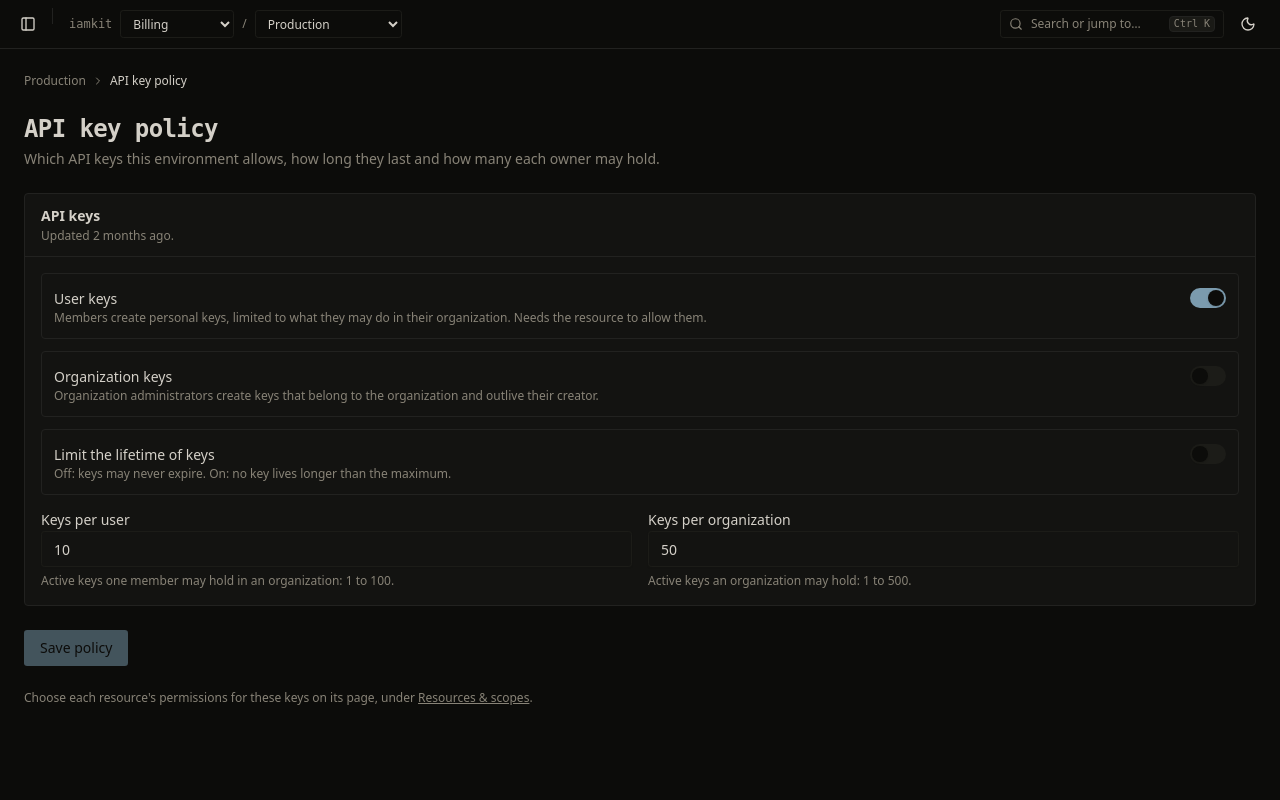
Test case: edits the API key policy: toggles, a lifetime cap and limits
The width and height of the screenshot is (1280, 800).
Expected: the switch labelled "User keys" is checked, [54, 289, 117, 308]
Expected: the button "Save policy" is disabled, [24, 630, 128, 666]
Click the switch labelled "Organization keys" at (113,376), box [54, 367, 172, 386]
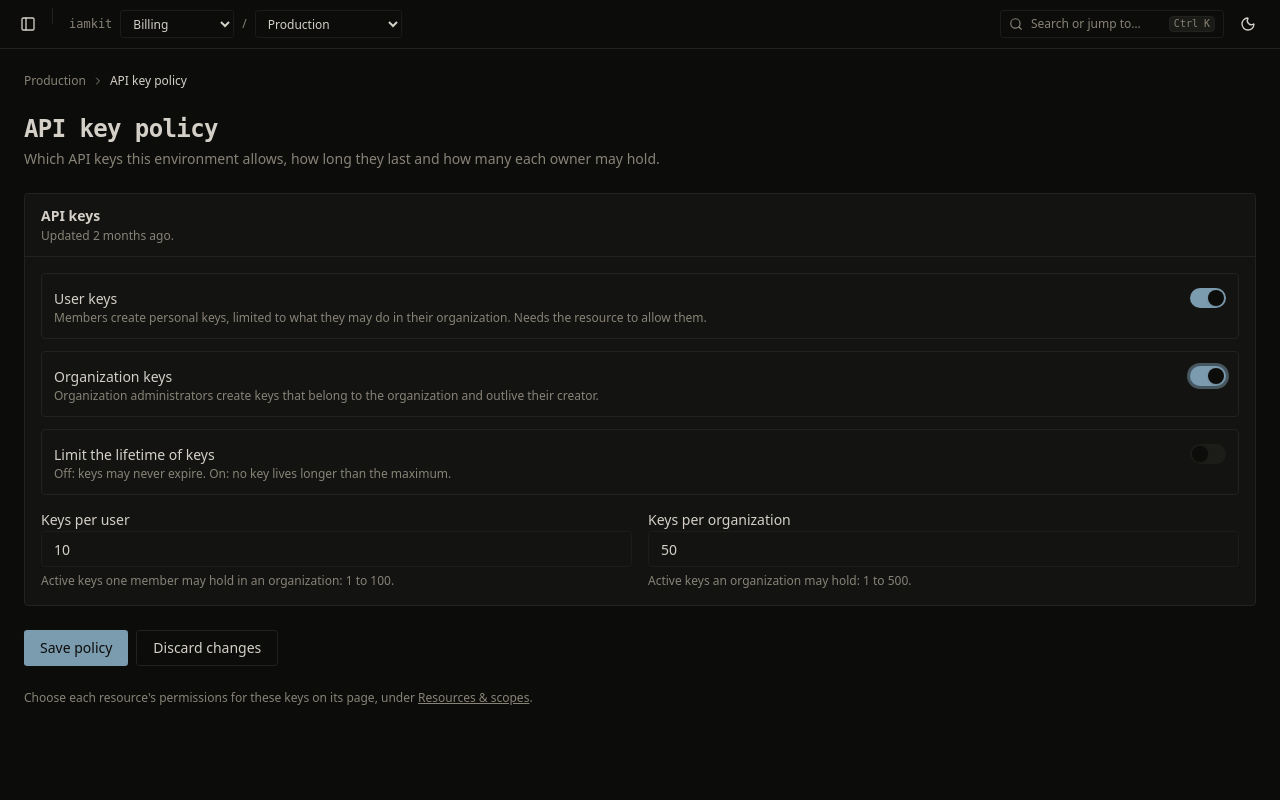
Click the switch labelled "Limit the lifetime of keys" at (134,454), box [54, 445, 215, 464]
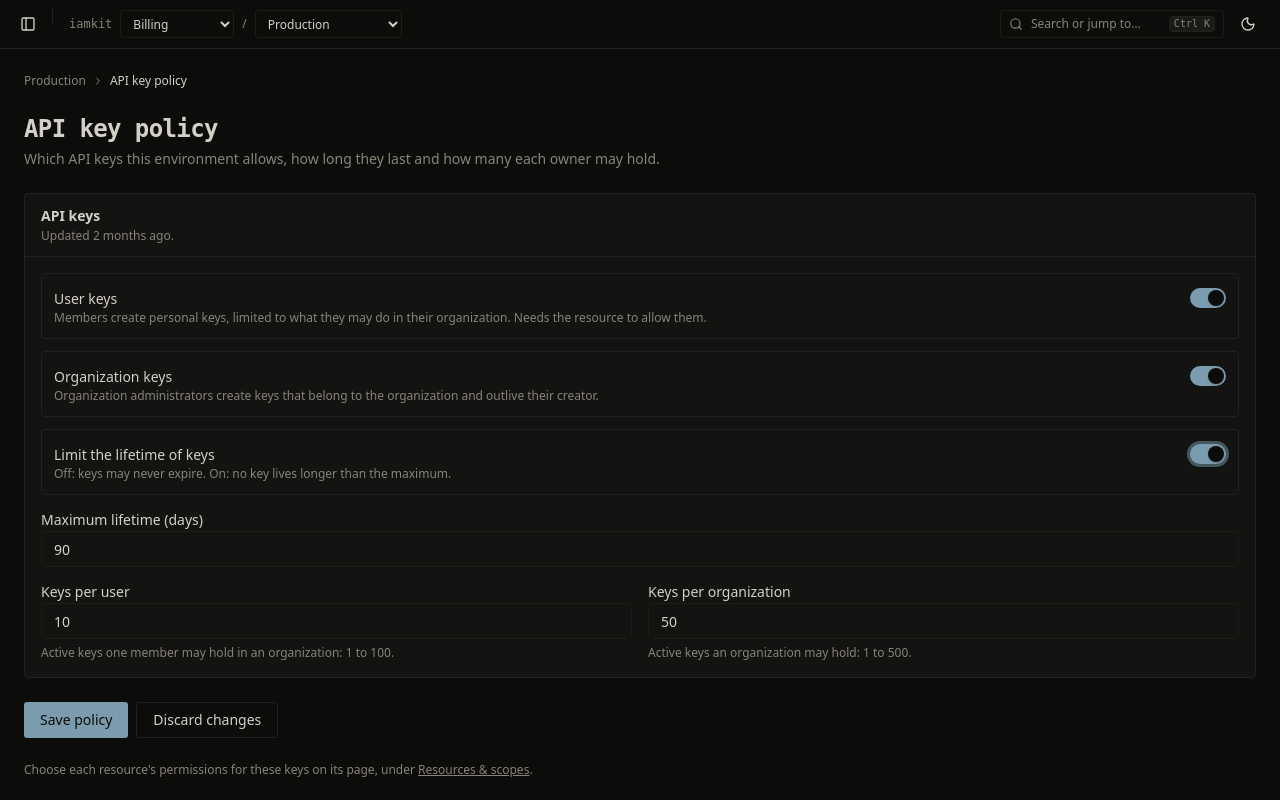
Replace the text in the number field labelled "Maximum lifetime (days)" with "120" at (640,549), box [41, 531, 1239, 567]
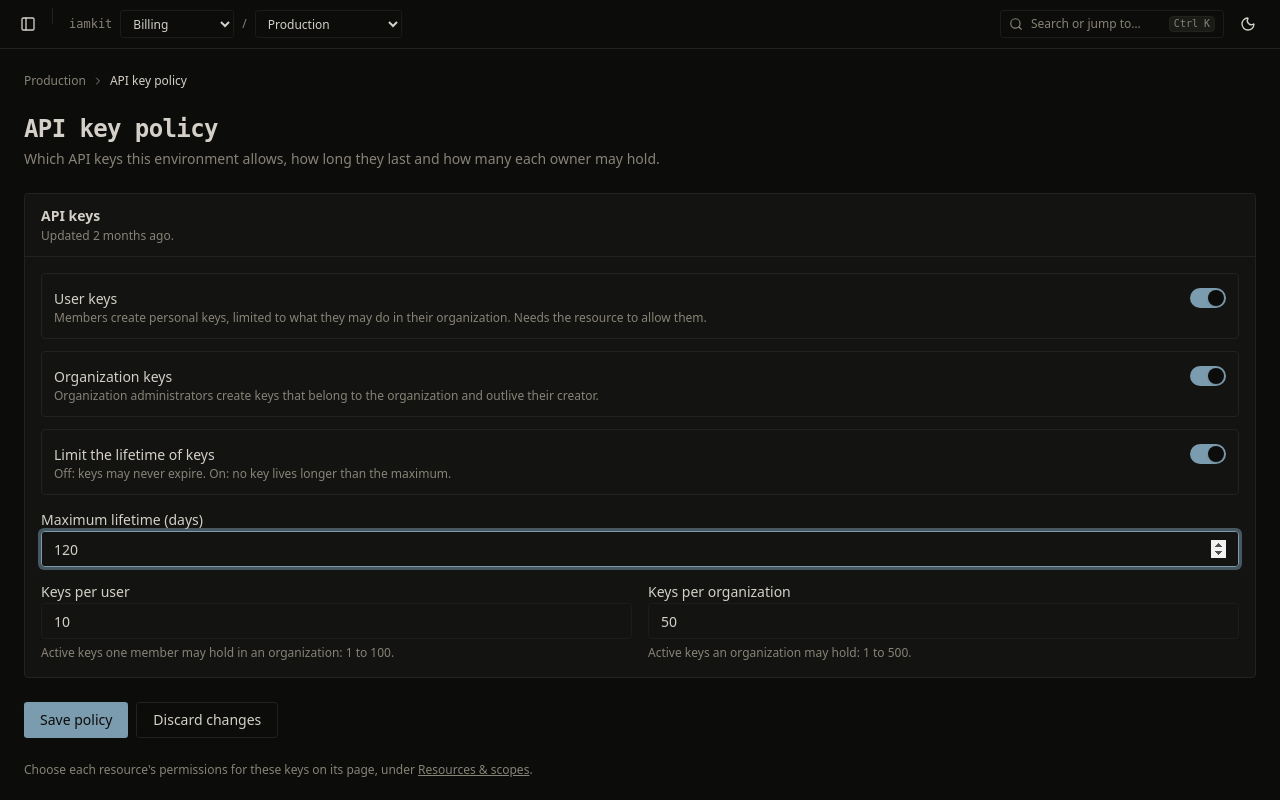
Replace the text in the number field labelled "Keys per user" with "5" at (336,621), box [41, 603, 632, 639]
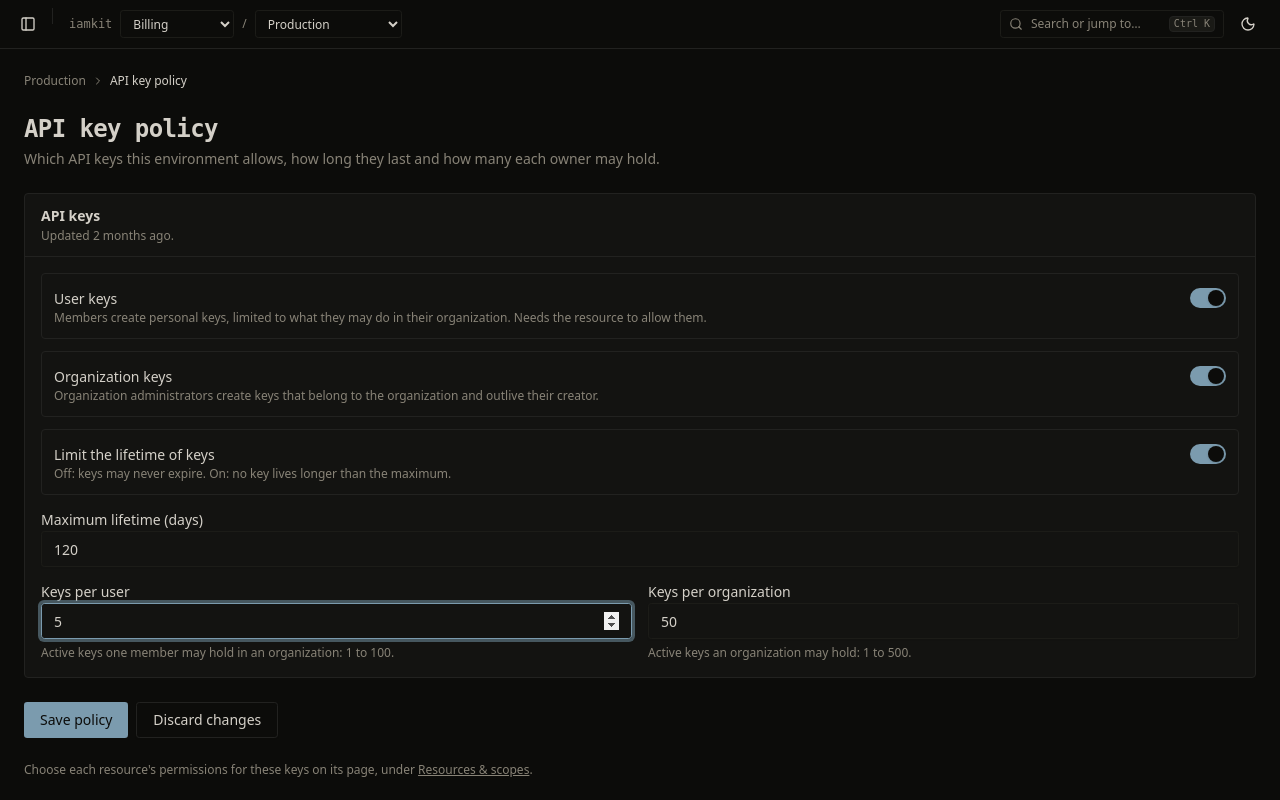
Click the button "Save policy" at (76,720), box [24, 702, 128, 738]
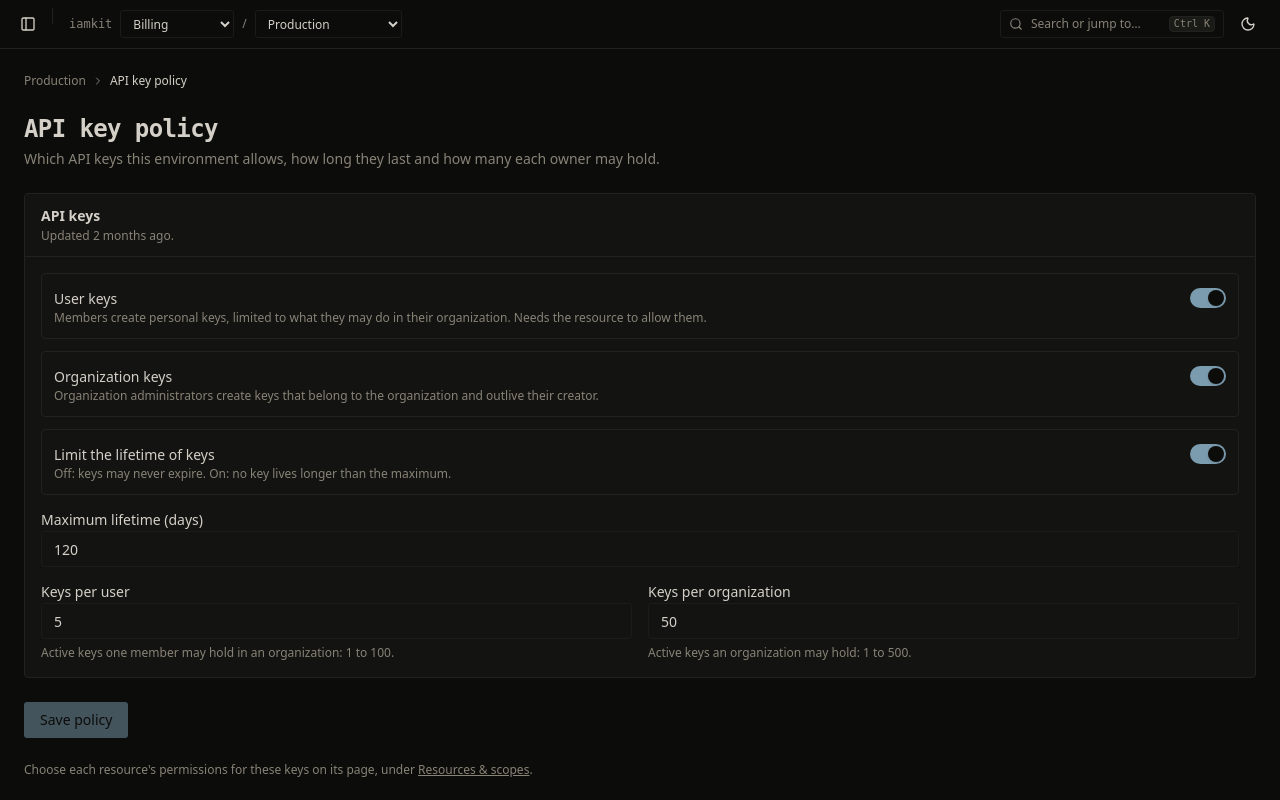
Now the button "Save policy" is disabled, box [24, 702, 128, 738]
